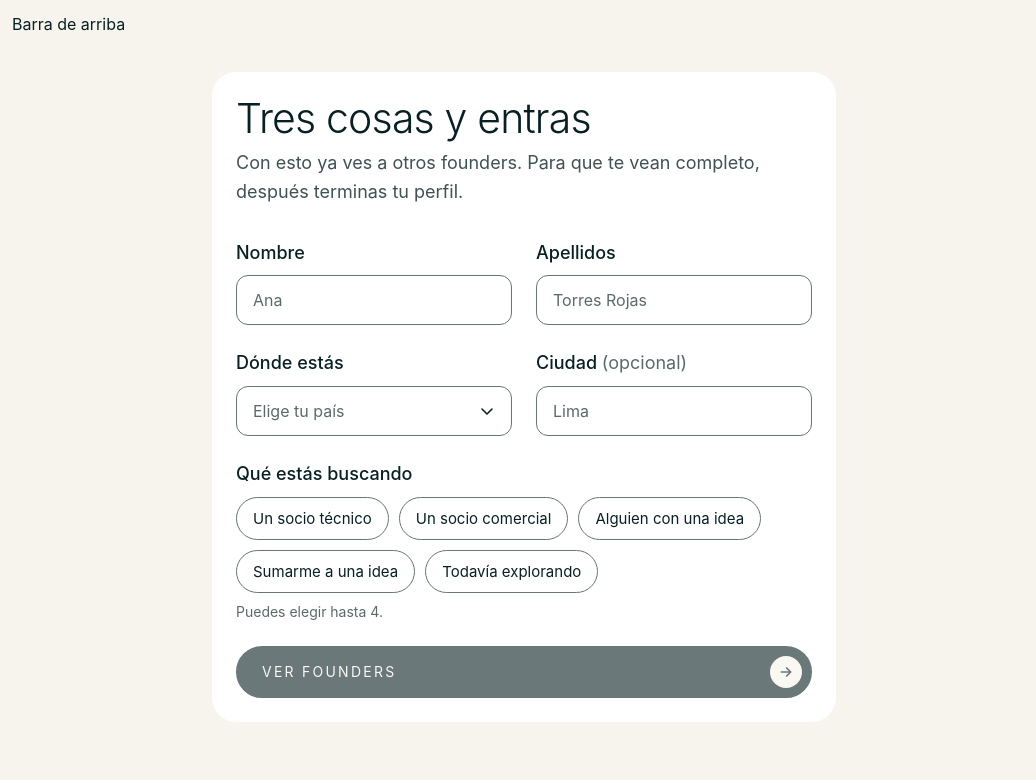
BienvenidaView › deja marcar hasta cuatro opciones y desactiva la quinta
Click the checkbox labelled "Un socio técnico": coordinates (312, 518) [236,497,389,540]
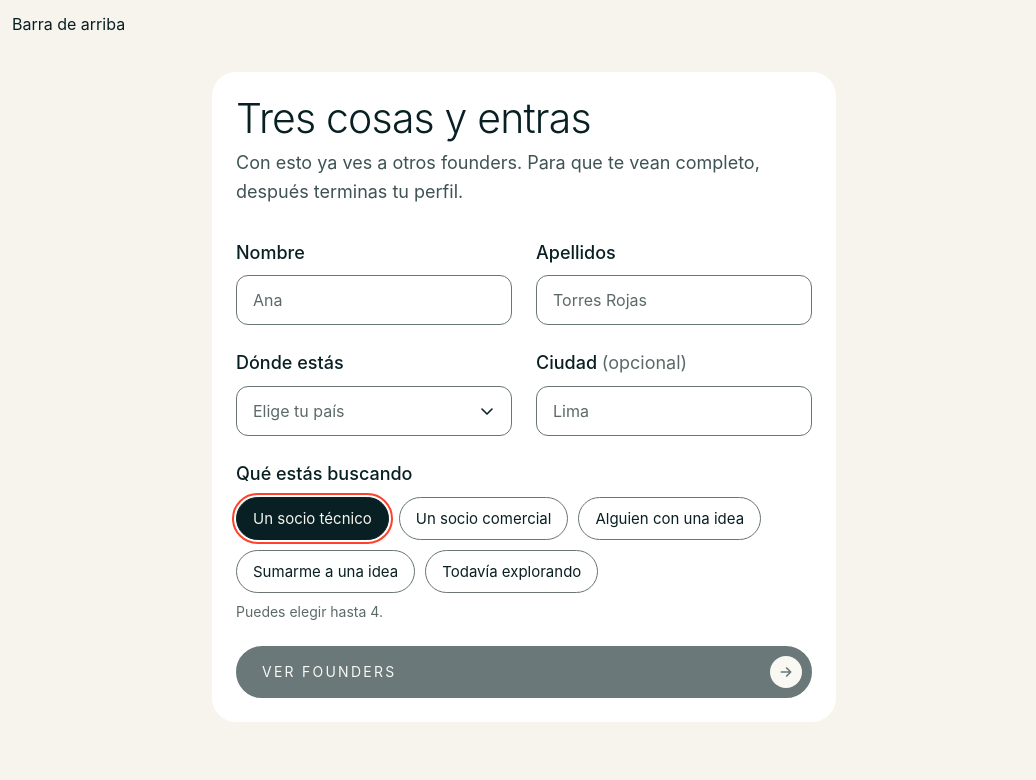
Click the checkbox labelled "Un socio comercial": coordinates (484, 518) [399,497,568,540]
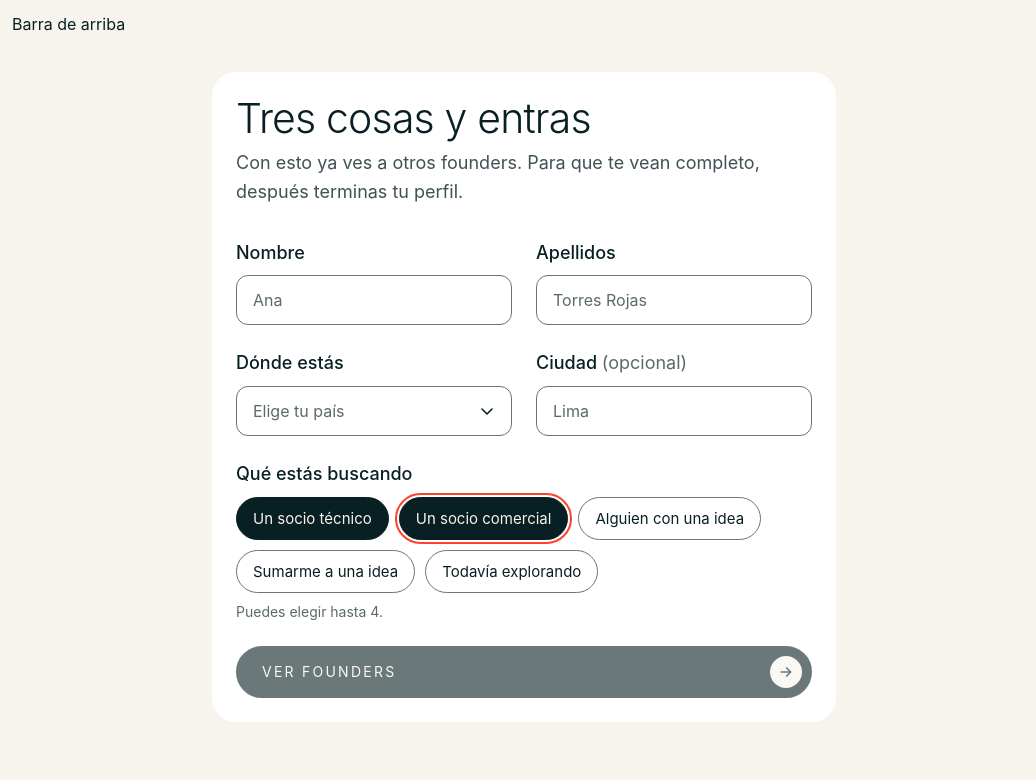
Click the checkbox labelled "Alguien con una idea": coordinates (670, 518) [578,497,761,540]
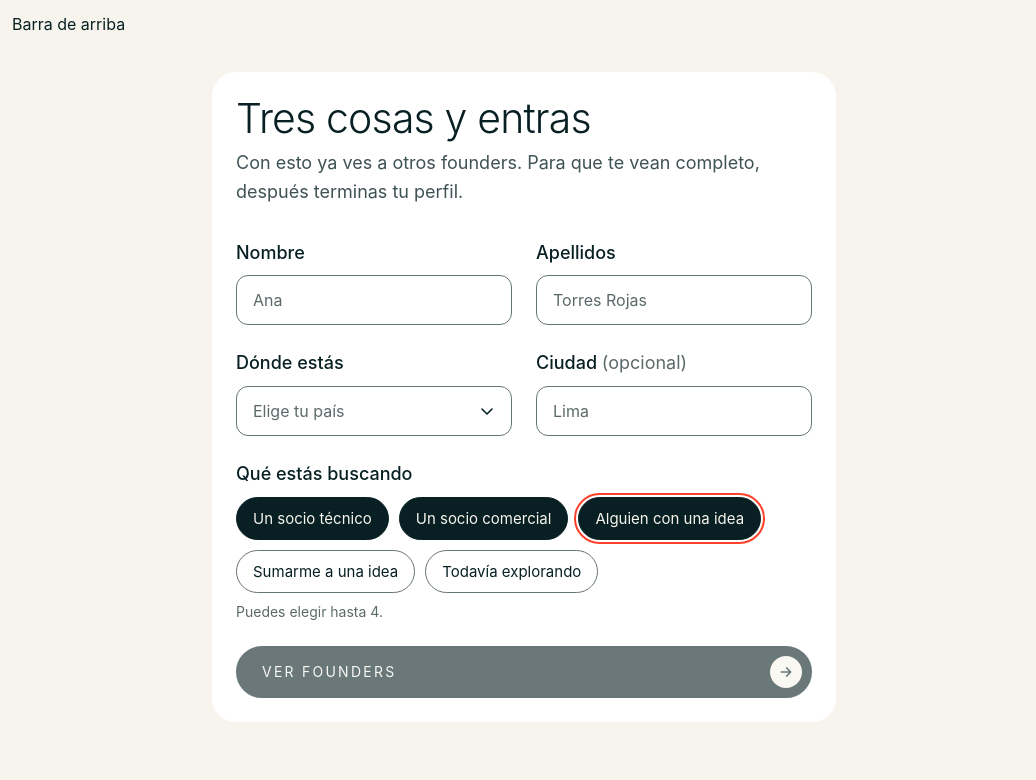
Click the checkbox labelled "Sumarme a una idea": coordinates (326, 572) [236,550,415,593]
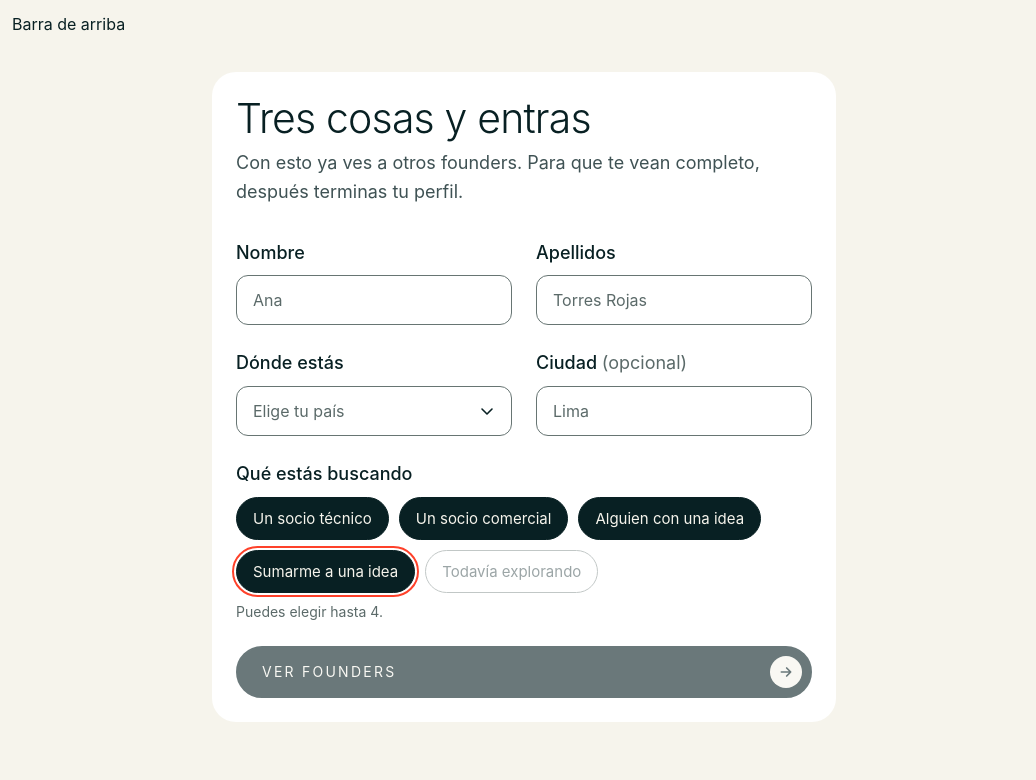
Expected: the checkbox labelled "Todavía explorando" is disabled, [425,550,598,593]
Click the checkbox labelled "Un socio comercial": coordinates (484, 518) [399,497,568,540]
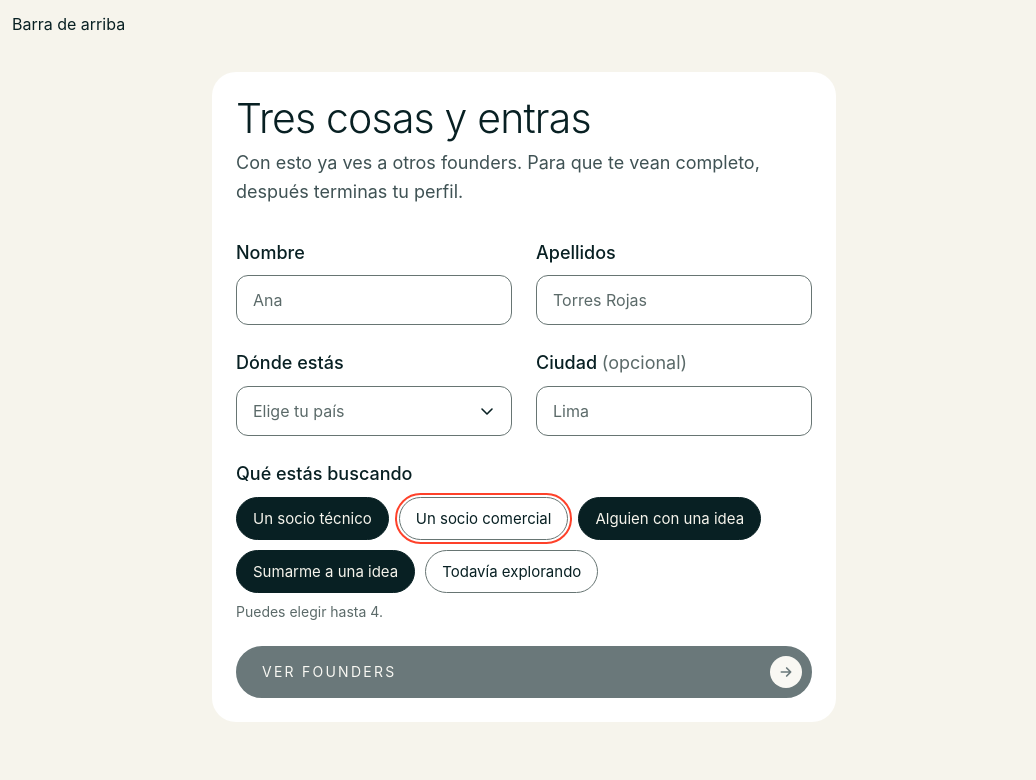
Expected: the checkbox labelled "Todavía explorando" is enabled, [425,550,598,593]
